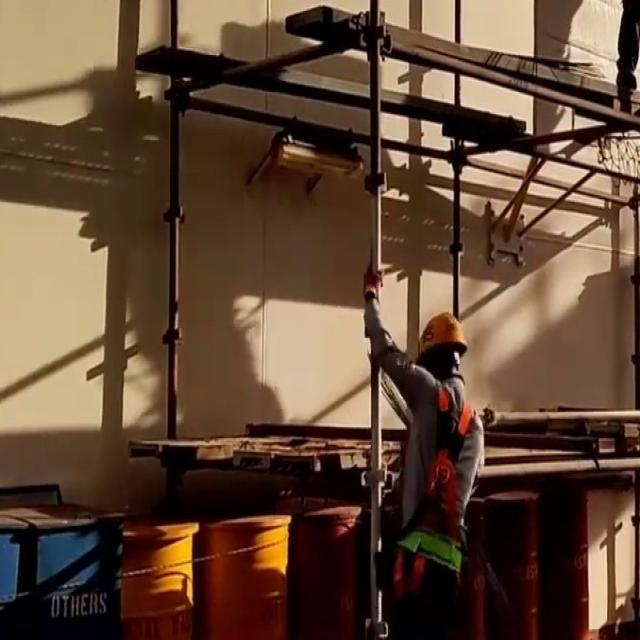Arnes_seguridad: (395, 370, 481, 554)
